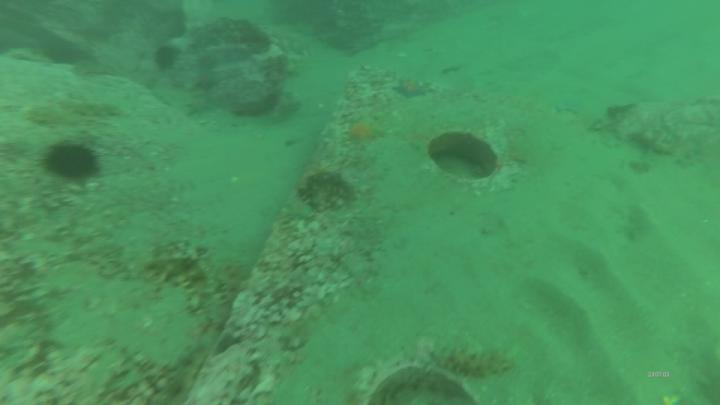echinus: (43, 141, 99, 183), (151, 43, 182, 72)
holothurian: (429, 342, 516, 379), (143, 249, 213, 293), (295, 167, 358, 200), (67, 99, 124, 119), (26, 104, 67, 128)
starfish: (344, 118, 387, 148), (392, 75, 431, 103)
